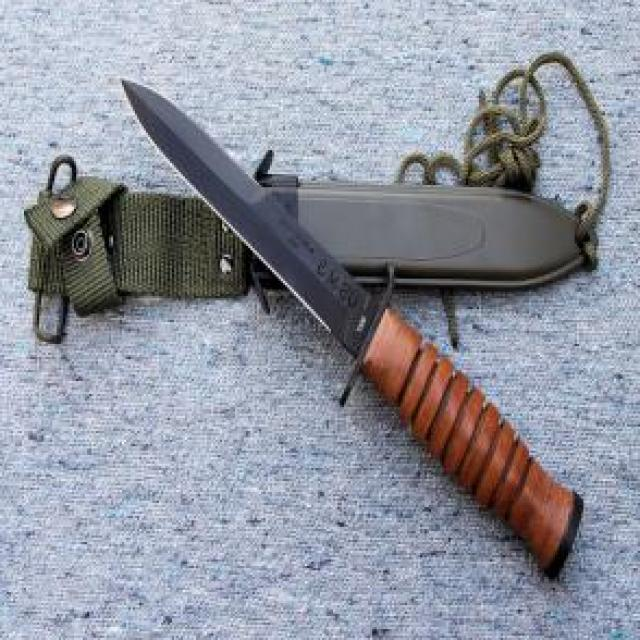knife: (115, 65, 384, 359)
